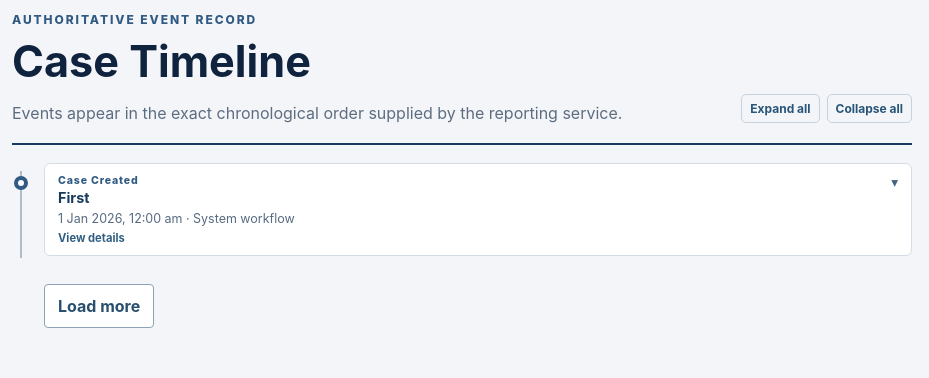
Test: Case Timeline › requests 100 events, appends the next page, and encodes nextCursor
Check: the text "First" is shown, box top-left (58, 189), bottom-right (90, 206)
Click the button "Load more": (99, 306) top-left (44, 284), bottom-right (154, 328)
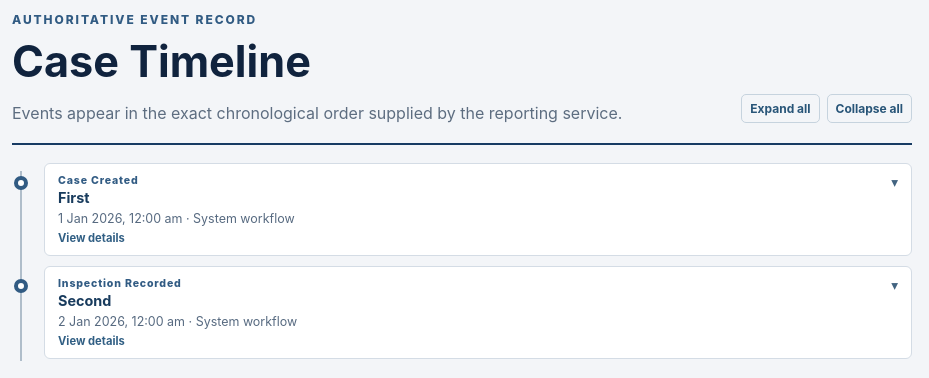
Check: the text "First" is shown, box top-left (58, 189), bottom-right (90, 206)
Check: the text "Second" is shown, box top-left (58, 292), bottom-right (111, 309)
Check: the button "Load more" is gone
